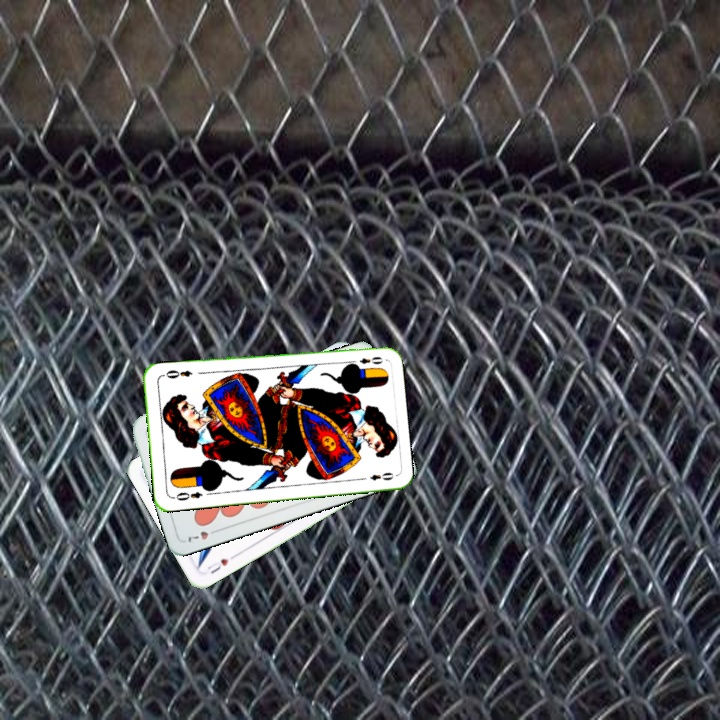EO: (169, 488, 205, 503), (356, 352, 386, 367)
H7: (184, 525, 221, 545)
HU: (203, 550, 238, 577)
